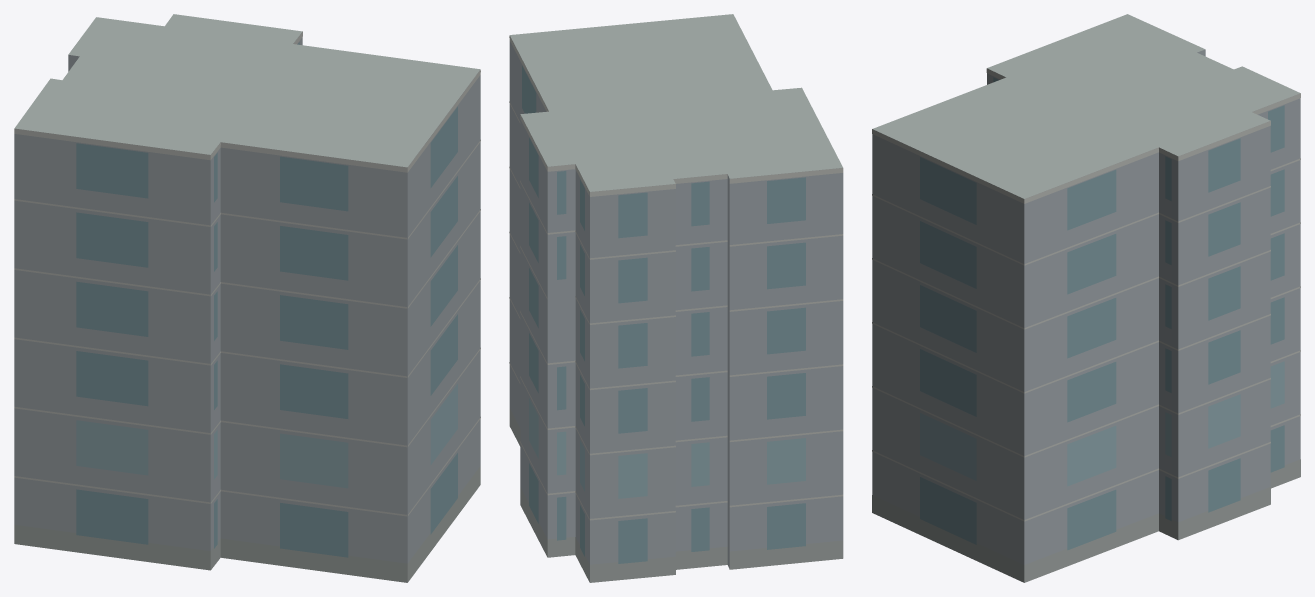
The model's file is survey-upis-32519274.glb.
The picture shows the model from 3 angles, left to right: view 1: azimuth 30°, elevation 25°; view 2: azimuth 150°, elevation 25°; view 3: azimuth 270°, elevation 25°; orthographic projection. The views are drawn at different scales.
Parts seen in each view (by area): view 1: survey-upis-32519274.tmp; view 2: survey-upis-32519274.tmp; view 3: survey-upis-32519274.tmp.
Boxes of the visible parts, x1,y1,x2,y2 form: survey-upis-32519274.tmp: (14, 14, 480, 582); survey-upis-32519274.tmp: (509, 14, 843, 582); survey-upis-32519274.tmp: (872, 14, 1300, 582).
Size of the model in its own units: 19.56 by 18.9 by 19.14.
